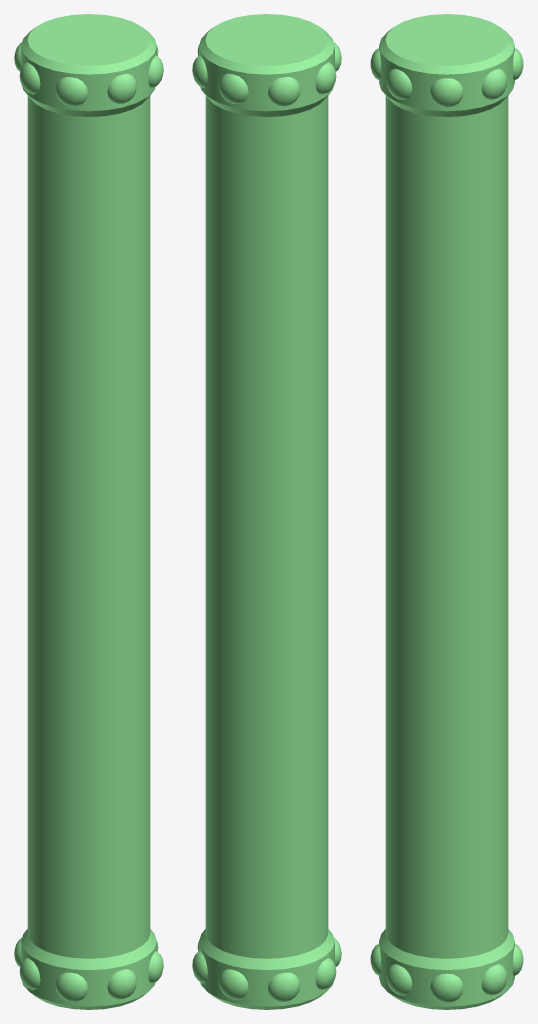
The model's file is pipe_large.fbx.
3 renders of one model, left to right at view 1: azimuth 30°, elevation 25°; view 2: azimuth 150°, elevation 25°; view 3: azimuth 270°, elevation 25°, orthographic.
Parts seen in each view (by area): view 1: pipe_large; view 2: pipe_large; view 3: pipe_large.
Part boxes in pixels (x1,y1,x2,y2): pipe_large: (14, 14, 163, 1009); pipe_large: (192, 14, 341, 1009); pipe_large: (370, 14, 523, 1009).
Bounding box in the file's own units: 132 × 900 × 132.
